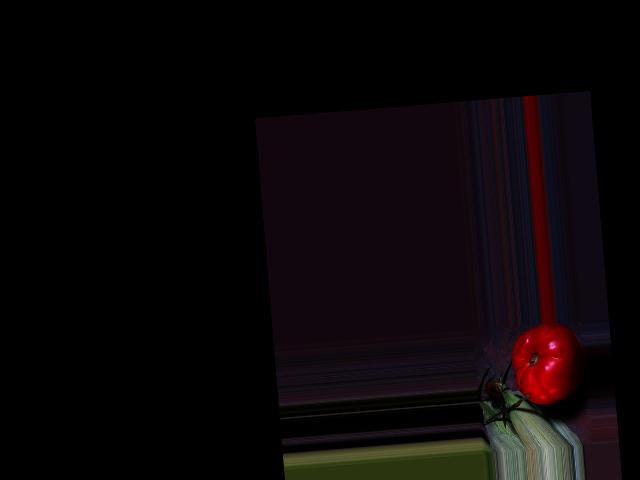tomato: (509, 320, 589, 407)
